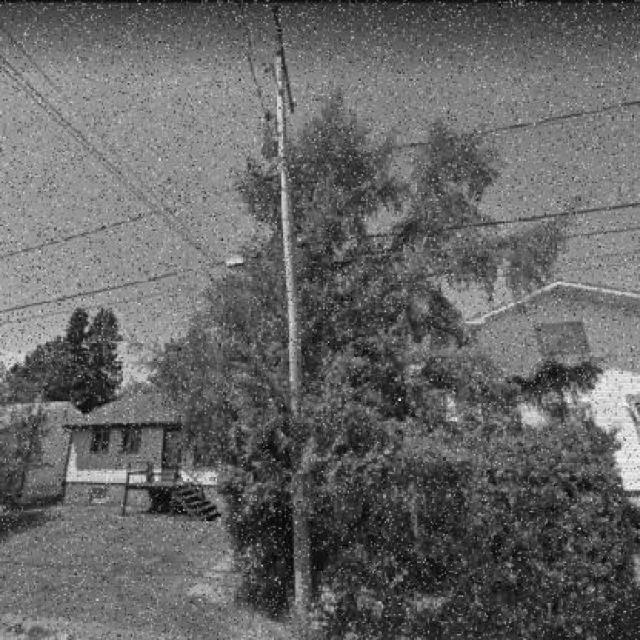pole: (220, 3, 346, 606)
